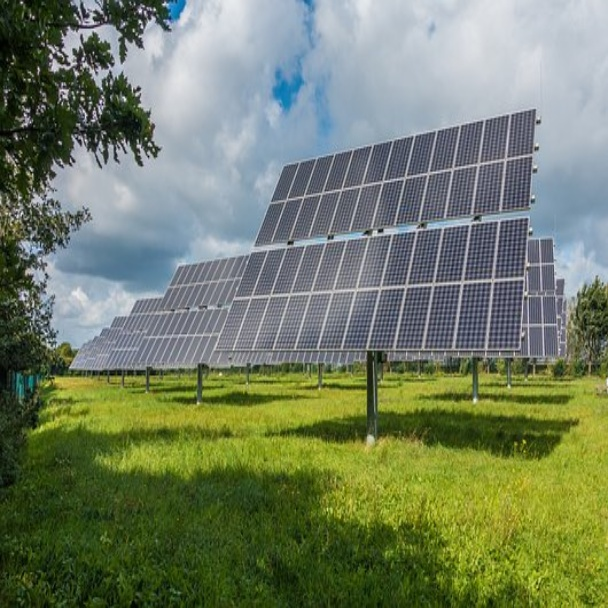solarpanels: (222, 229, 545, 366), (242, 103, 543, 241), (164, 263, 254, 370), (113, 295, 182, 377), (73, 316, 135, 372)
